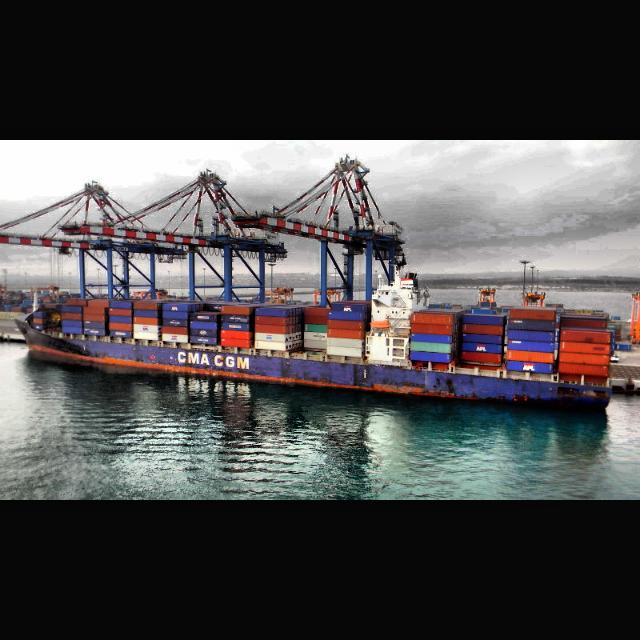container: (13, 274, 614, 411)
